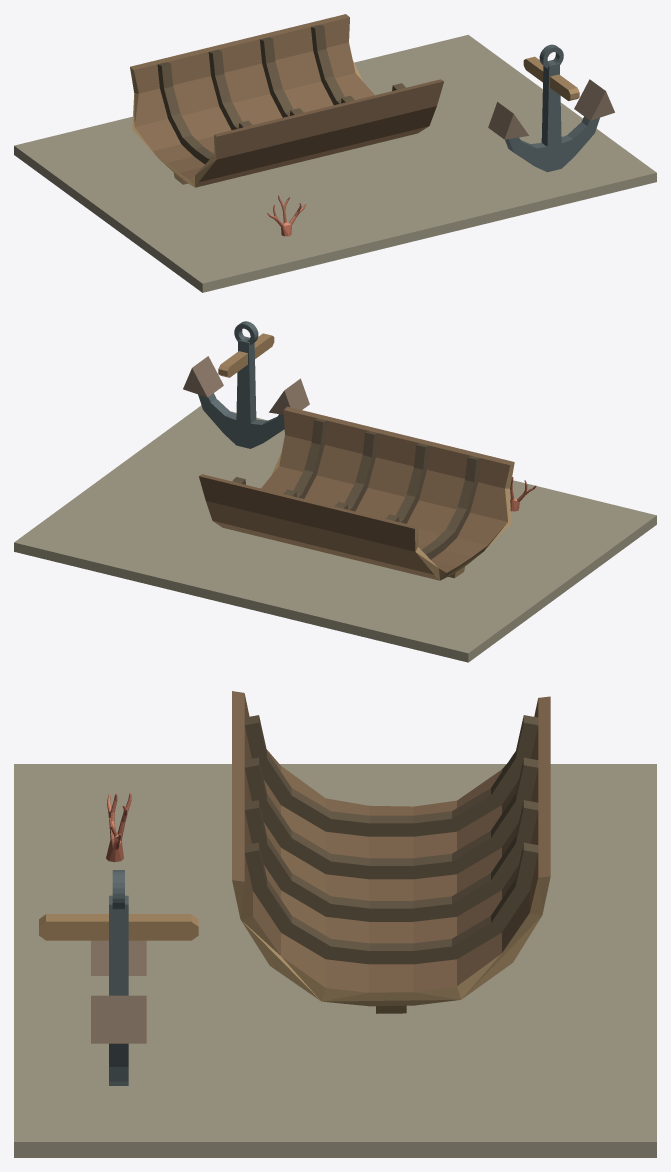
3 views of the same model, one above another, from view 1: azimuth 30°, elevation 25°; view 2: azimuth 150°, elevation 25°; view 3: azimuth 270°, elevation 25° (orthographic). The views are drawn at different scales.
Parts seen in each view (by area): view 1: SceneOnly_ContinuousFloor, hull__ContinuousFracturedHull_IntegralGroundKeel, anchor__WholeShankCrownAndCurvedArms, hull__CurvedTransverseRib_01, hull__CurvedTransverseRib_04, hull__CurvedTransverseRib_03, hull__CurvedTransverseRib_02, anchor__RightWholeBroadFluke, anchor__LeftWholeBroadFluke, anchor__WholeTransverseStock, coral__ContinuousBranchingCoral; view 2: SceneOnly_ContinuousFloor, hull__ContinuousFracturedHull_IntegralGroundKeel, anchor__WholeShankCrownAndCurvedArms, hull__CurvedTransverseRib_01, hull__CurvedTransverseRib_03, hull__CurvedTransverseRib_04, hull__CurvedTransverseRib_02, anchor__RightWholeBroadFluke, anchor__WholeTransverseStock, anchor__LeftWholeBroadFluke; view 3: SceneOnly_ContinuousFloor, hull__ContinuousFracturedHull_IntegralGroundKeel, hull__CurvedTransverseRib_04, hull__CurvedTransverseRib_01, hull__CurvedTransverseRib_02, hull__CurvedTransverseRib_03, anchor__WholeTransverseStock, anchor__RightWholeBroadFluke, anchor__WholeShankCrownAndCurvedArms, anchor__LeftWholeBroadFluke, coral__ContinuousBranchingCoral.
Boxes of the visible parts, left/top/right/bottom form: SceneOnly_ContinuousFloor: left=14, top=34, right=656, bottom=292; hull__ContinuousFracturedHull_IntegralGroundKeel: left=130, top=14, right=443, bottom=187; anchor__WholeShankCrownAndCurvedArms: left=505, top=60, right=599, bottom=172; hull__CurvedTransverseRib_01: left=157, top=62, right=252, bottom=163; hull__CurvedTransverseRib_04: left=311, top=25, right=405, bottom=105; hull__CurvedTransverseRib_03: left=259, top=37, right=354, bottom=117; hull__CurvedTransverseRib_02: left=208, top=49, right=303, bottom=129; anchor__RightWholeBroadFluke: left=574, top=79, right=614, bottom=120; anchor__LeftWholeBroadFluke: left=488, top=102, right=528, bottom=139; anchor__WholeTransverseStock: left=523, top=56, right=579, bottom=100; coral__ContinuousBranchingCoral: left=267, top=195, right=306, bottom=236; SceneOnly_ContinuousFloor: left=14, top=405, right=656, bottom=662; hull__ContinuousFracturedHull_IntegralGroundKeel: left=199, top=406, right=514, bottom=580; anchor__WholeShankCrownAndCurvedArms: left=198, top=336, right=284, bottom=448; hull__CurvedTransverseRib_01: left=385, top=456, right=480, bottom=559; hull__CurvedTransverseRib_03: left=283, top=431, right=378, bottom=511; hull__CurvedTransverseRib_04: left=232, top=418, right=327, bottom=498; hull__CurvedTransverseRib_02: left=334, top=443, right=429, bottom=523; anchor__RightWholeBroadFluke: left=183, top=356, right=223, bottom=397; anchor__WholeTransverseStock: left=218, top=333, right=274, bottom=377; anchor__LeftWholeBroadFluke: left=269, top=378, right=309, bottom=414; SceneOnly_ContinuousFloor: left=14, top=764, right=656, bottom=1157; hull__ContinuousFracturedHull_IntegralGroundKeel: left=232, top=691, right=550, bottom=1013; hull__CurvedTransverseRib_04: left=244, top=842, right=538, bottom=964; hull__CurvedTransverseRib_01: left=244, top=715, right=538, bottom=836; hull__CurvedTransverseRib_02: left=244, top=757, right=538, bottom=879; hull__CurvedTransverseRib_03: left=244, top=800, right=538, bottom=921; anchor__WholeTransverseStock: left=39, top=914, right=198, bottom=940; anchor__RightWholeBroadFluke: left=91, top=995, right=146, bottom=1043; anchor__WholeShankCrownAndCurvedArms: left=109, top=895, right=128, bottom=1085; anchor__LeftWholeBroadFluke: left=91, top=940, right=146, bottom=975; coral__ContinuousBranchingCoral: left=106, top=793, right=131, bottom=862.
Bounding box in the file's own units: 6.4 × 1.77 × 4.6.
